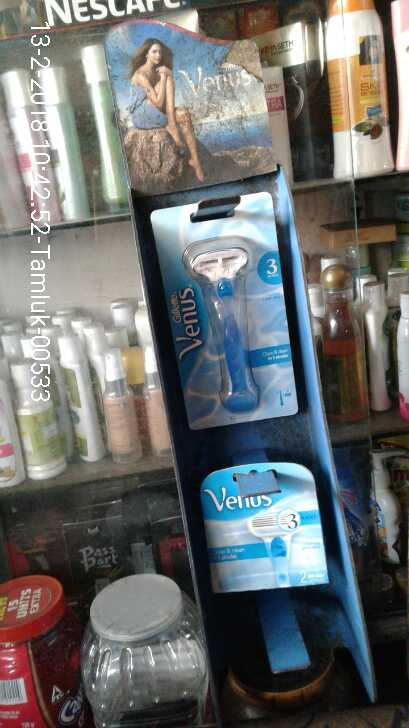venus: (154, 203, 306, 428), (198, 463, 328, 595)
